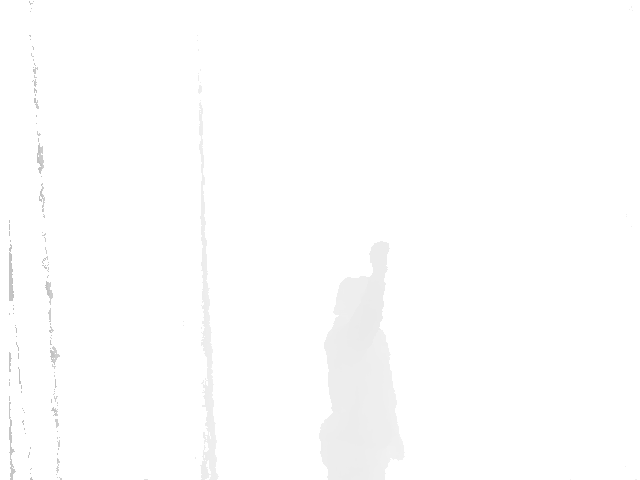hand: (364, 239, 394, 281)
head: (332, 276, 387, 336)
person: (315, 238, 406, 480)
